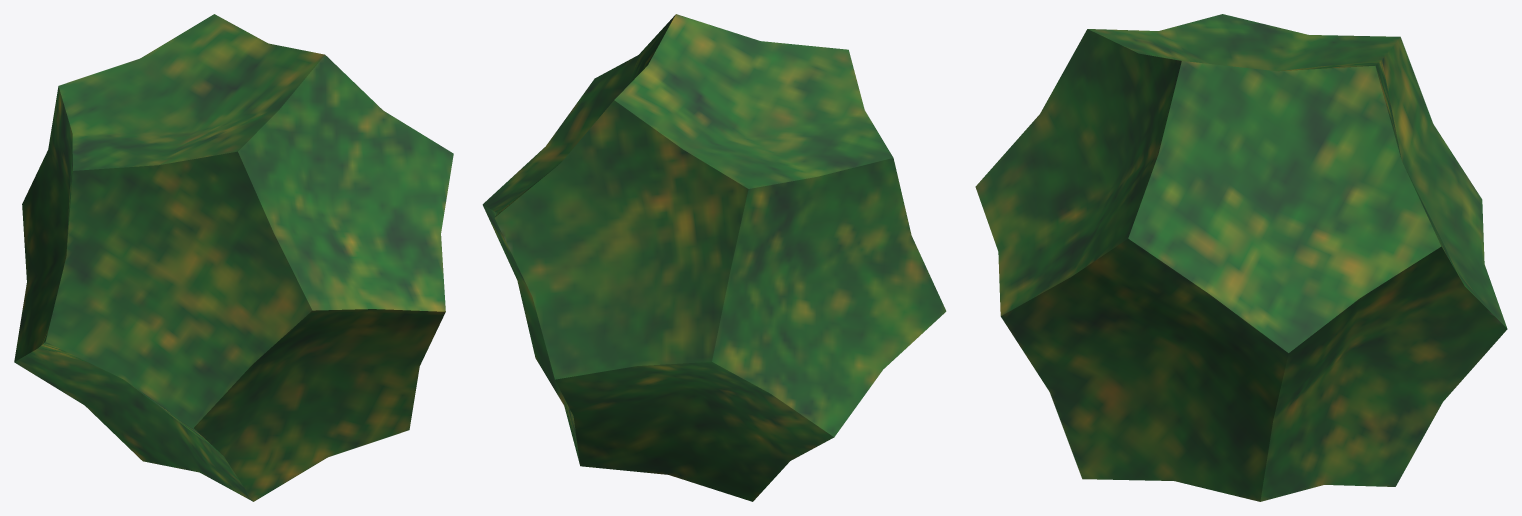
Rendered from tree_top_bush.FBX.
The picture shows the model from 3 angles, left to right: view 1: azimuth 30°, elevation 25°; view 2: azimuth 150°, elevation 25°; view 3: azimuth 270°, elevation 25°; orthographic projection. The views are drawn at different scales.
Visible parts, largest first — view 1: tree_top_bush; view 2: tree_top_bush; view 3: tree_top_bush.
Part boxes in pixels (box(x1,y1,x2,y2)): tree_top_bush: box(14, 14, 453, 501); tree_top_bush: box(482, 14, 946, 501); tree_top_bush: box(975, 14, 1507, 501).
Size of what is drawn, in the model's own units: 11.82 by 11.58 by 11.17.
